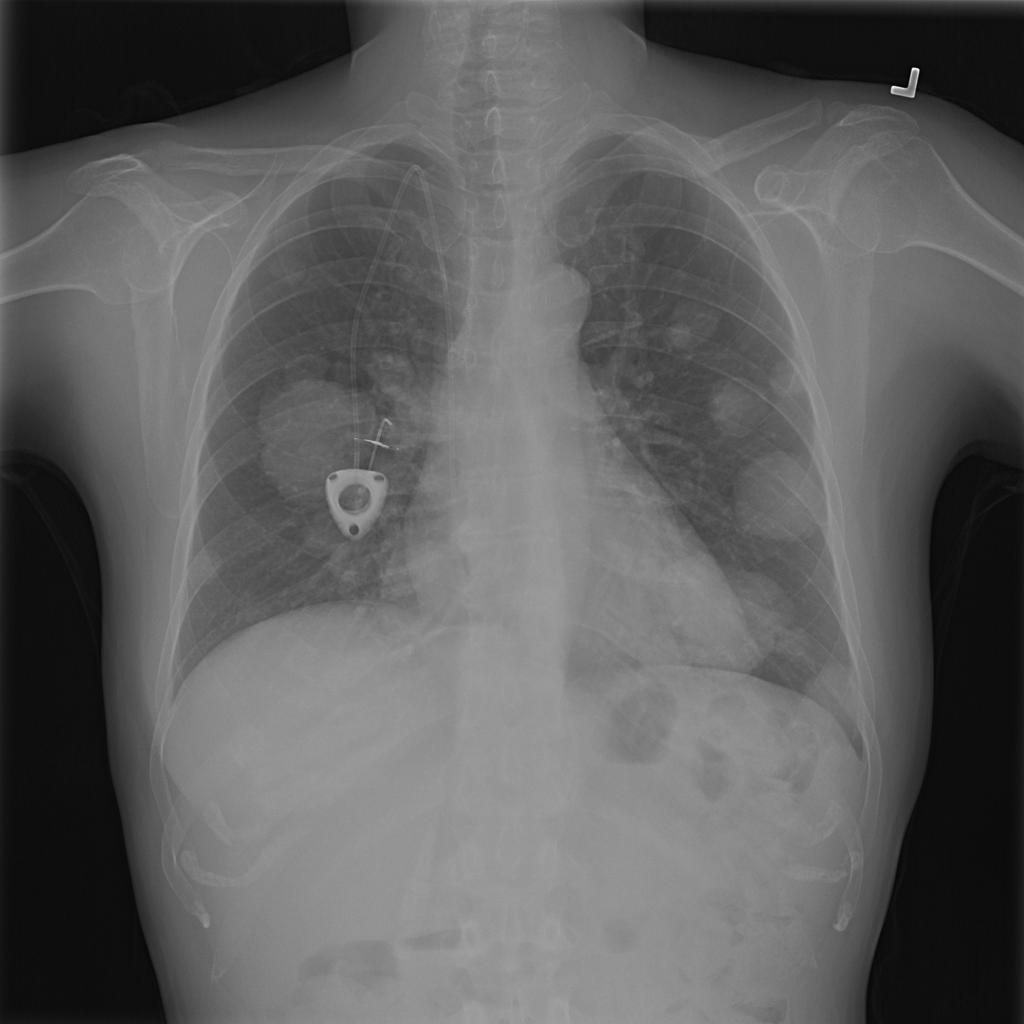nodule: (244, 362, 387, 510), (637, 542, 789, 671), (728, 443, 838, 552), (698, 371, 773, 443), (656, 290, 727, 358), (763, 351, 814, 404), (261, 244, 316, 292), (183, 539, 233, 590)
